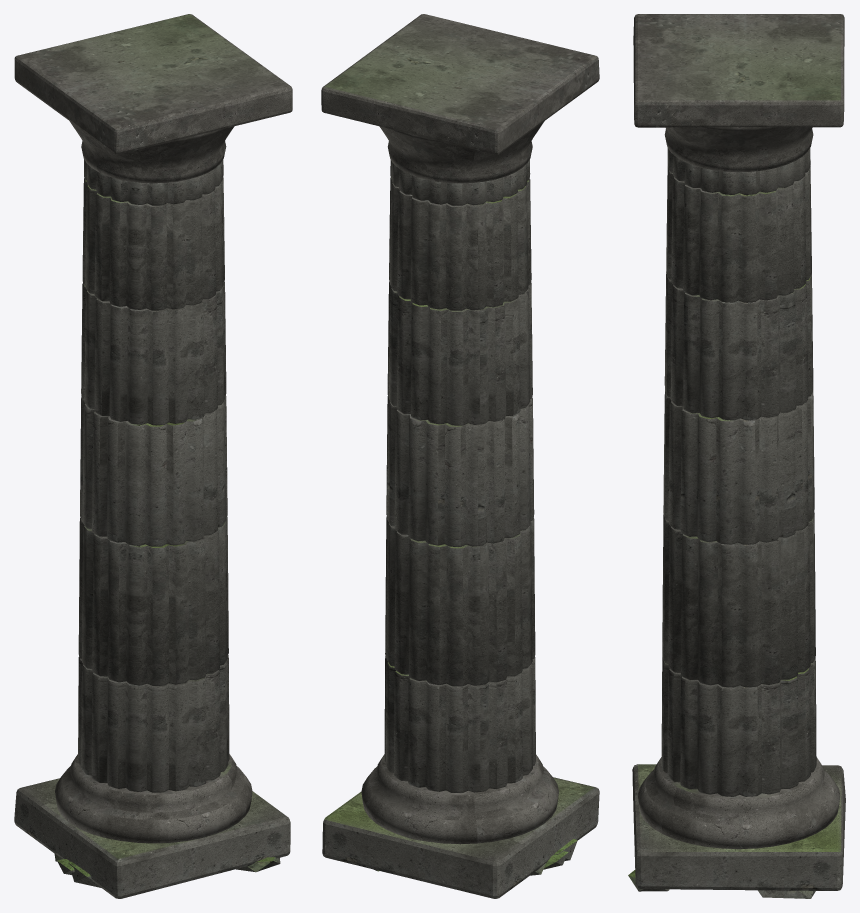
Rendered from ER_Colonne_Cannelee_4m7.gltf.
The picture shows the model from 3 angles, left to right: view 1: azimuth 30°, elevation 25°; view 2: azimuth 150°, elevation 25°; view 3: azimuth 270°, elevation 25°; orthographic projection. The views are drawn at different scales.
Visible parts, largest first — view 1: ER_Colonne_Cannelee_4m7_P.001, ER_Colonne_Cannelee_4m7_MOUL.001, ER_Colonne_Cannelee_4m7_PM.001; view 2: ER_Colonne_Cannelee_4m7_P.001, ER_Colonne_Cannelee_4m7_MOUL.001; view 3: ER_Colonne_Cannelee_4m7_P.001, ER_Colonne_Cannelee_4m7_MOUL.001, ER_Colonne_Cannelee_4m7_PM.001.
Part boxes in pixels (box(x1,y1,x2,y2)): ER_Colonne_Cannelee_4m7_P.001: box(14, 159, 290, 898); ER_Colonne_Cannelee_4m7_MOUL.001: box(14, 14, 292, 843); ER_Colonne_Cannelee_4m7_PM.001: box(54, 854, 280, 887); ER_Colonne_Cannelee_4m7_P.001: box(322, 159, 599, 898); ER_Colonne_Cannelee_4m7_MOUL.001: box(321, 14, 599, 844); ER_Colonne_Cannelee_4m7_P.001: box(632, 148, 845, 890); ER_Colonne_Cannelee_4m7_MOUL.001: box(633, 14, 844, 849); ER_Colonne_Cannelee_4m7_PM.001: box(628, 870, 815, 898).
Bounding box in the file's own units: 1.18 × 4.8 × 1.17.
Materials: 3 (3 with a texture image).
